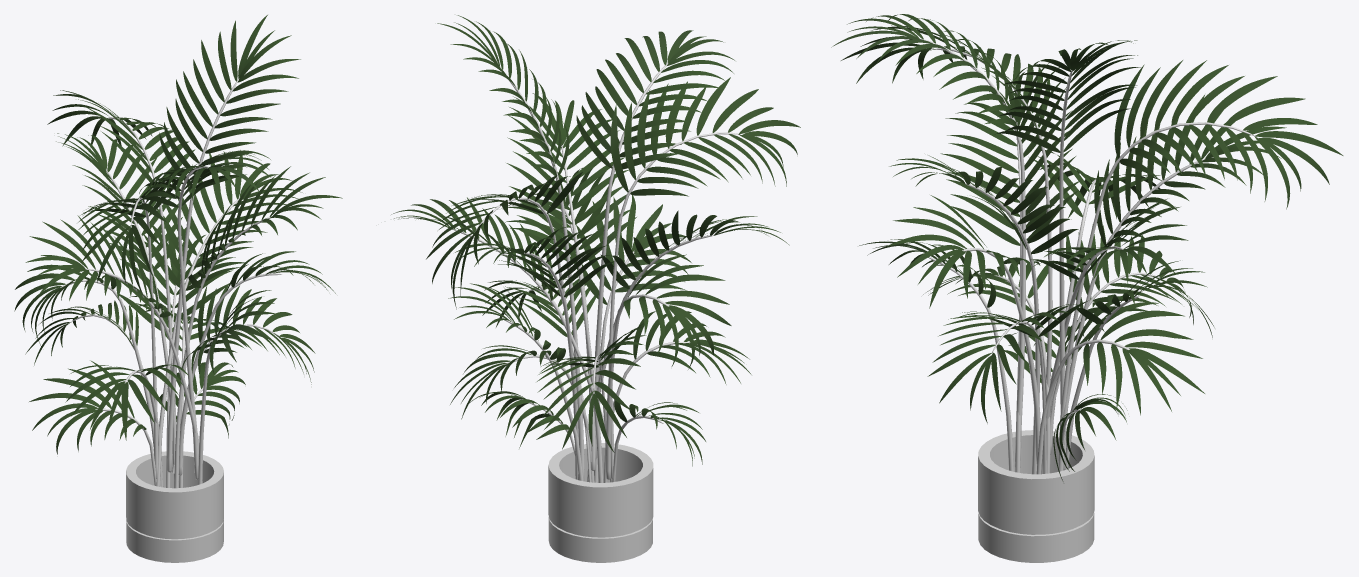
Rendered from Planta_Main_Consul.fbx.
3 renders of one model, left to right at view 1: azimuth 30°, elevation 25°; view 2: azimuth 150°, elevation 25°; view 3: azimuth 270°, elevation 25°, orthographic. The views are drawn at different scales.
Visible parts, largest first — view 1: Line12; view 2: Line12; view 3: Line12.
Part boxes in pixels (left/top/right/bottom): Line12: left=14, top=15, right=342, bottom=562; Line12: left=391, top=15, right=800, bottom=562; Line12: left=831, top=14, right=1343, bottom=562.
Bounding box in the file's own units: 88.09 × 126 × 104.
